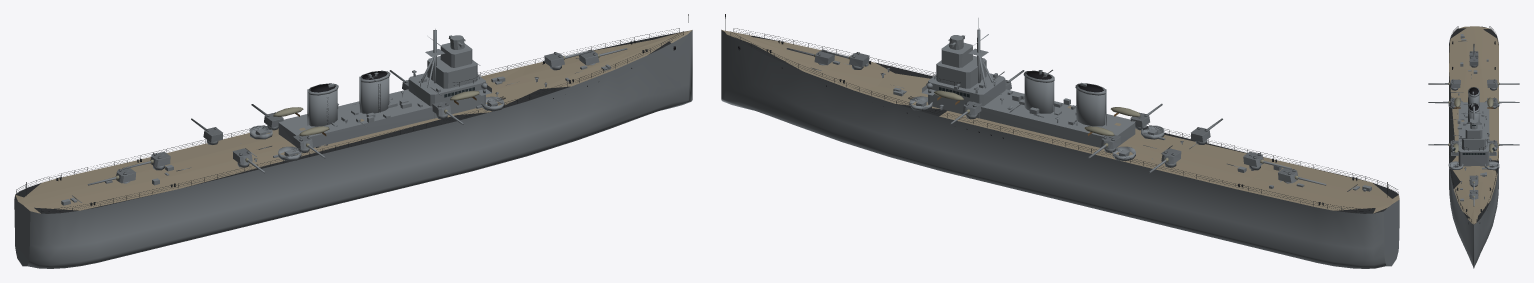
Rendered from java_lod.glb.
3 views of the same model, side by side, from view 1: azimuth 30°, elevation 25°; view 2: azimuth 150°, elevation 25°; view 3: azimuth 270°, elevation 25° (orthographic). The views are drawn at different scales.
Visible parts, largest first — view 1: java_lod; view 2: java_lod; view 3: java_lod.
Boxes of the visible parts, left/top/right/bottom form: java_lod: left=14, top=14, right=692, bottom=268; java_lod: left=721, top=14, right=1399, bottom=268; java_lod: left=1428, top=26, right=1519, bottom=268.
Size of the model in its own units: 155 by 33.01 by 29.19.
